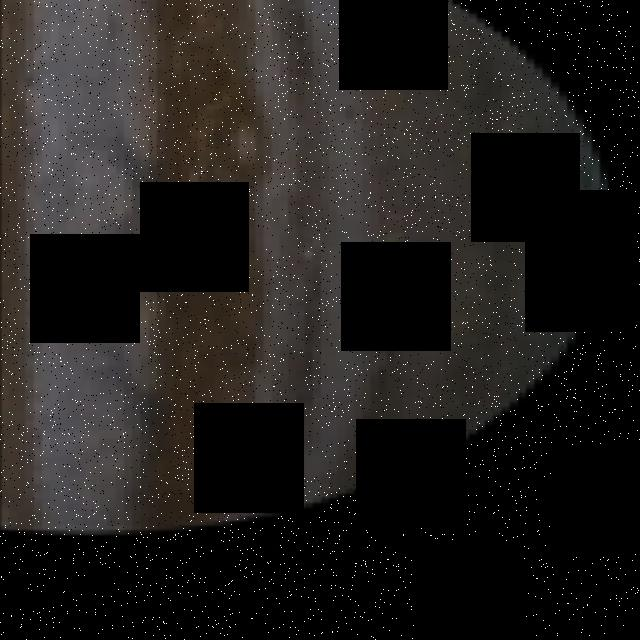Jupiter: (0, 0, 616, 535)
